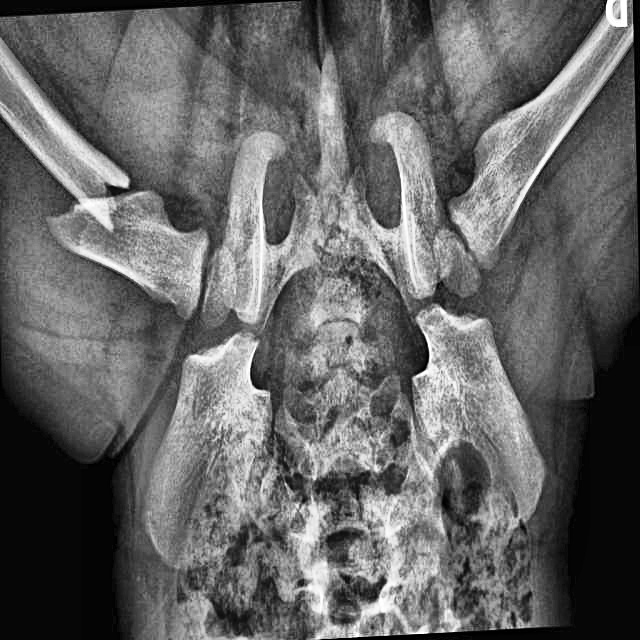Transverse: (33, 144, 149, 272)
